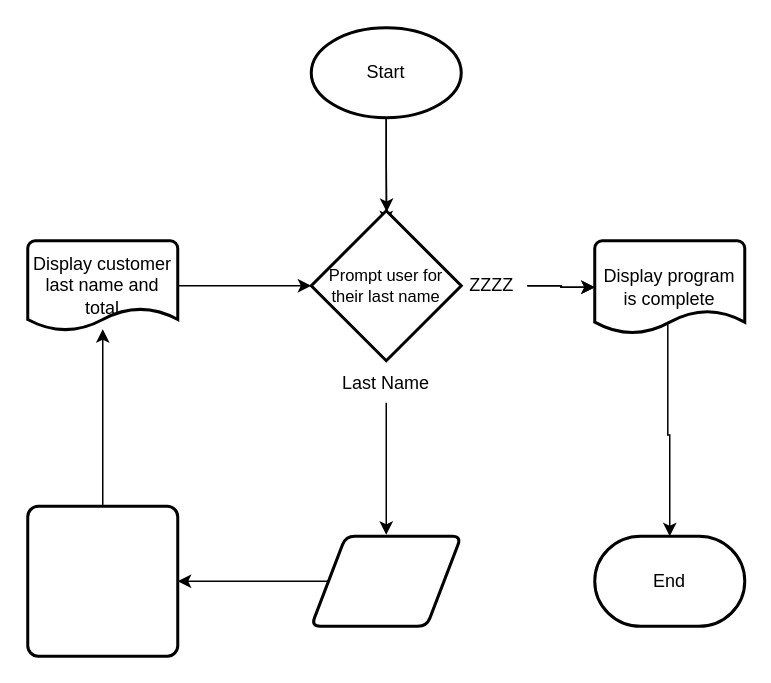
The diagram is 771 pixels wide and 683 high, and some of its shapes have lost their labels. The shapes that lost their labels are listed below. From the top down, each one's centre as x and y in pixels, then its label:
At point 102,580: "40 + (15x + 10y)".
At point 385,580: "User inputs # of bathrooms and other rooms".
